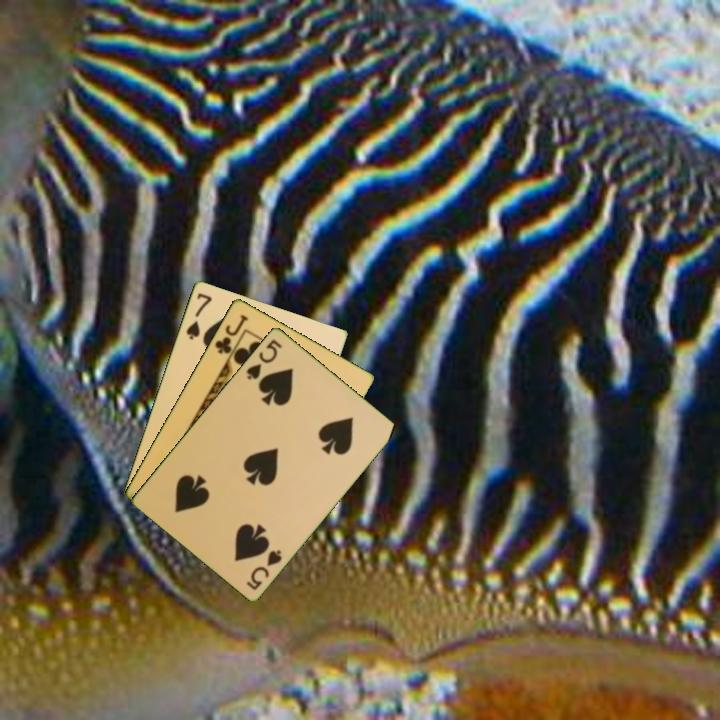5s: (242, 545, 285, 593), (243, 335, 285, 382)
7s: (182, 289, 215, 342)
Jc: (211, 310, 251, 357)
